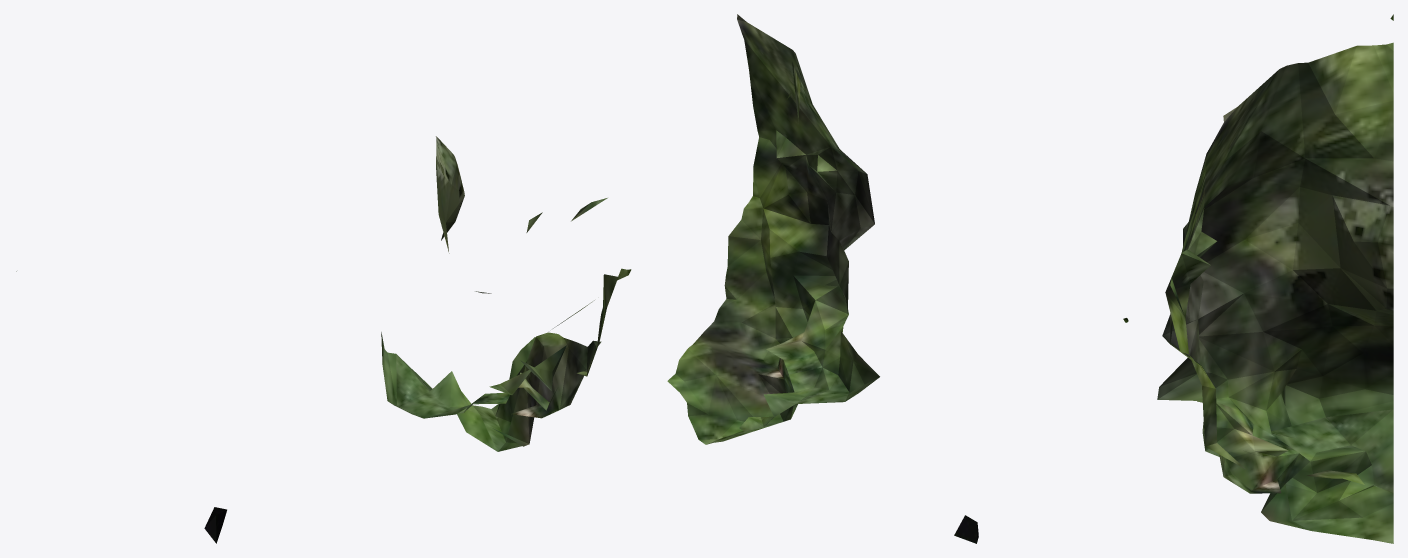
3 renders of one model, left to right at view 1: azimuth 30°, elevation 25°; view 2: azimuth 150°, elevation 25°; view 3: azimuth 270°, elevation 25°, orthographic. The views are drawn at different scales.
Size of the model in its own units: 17.19 by 14.87 by 6.28.
Materials: 1 (1 with a texture image).
